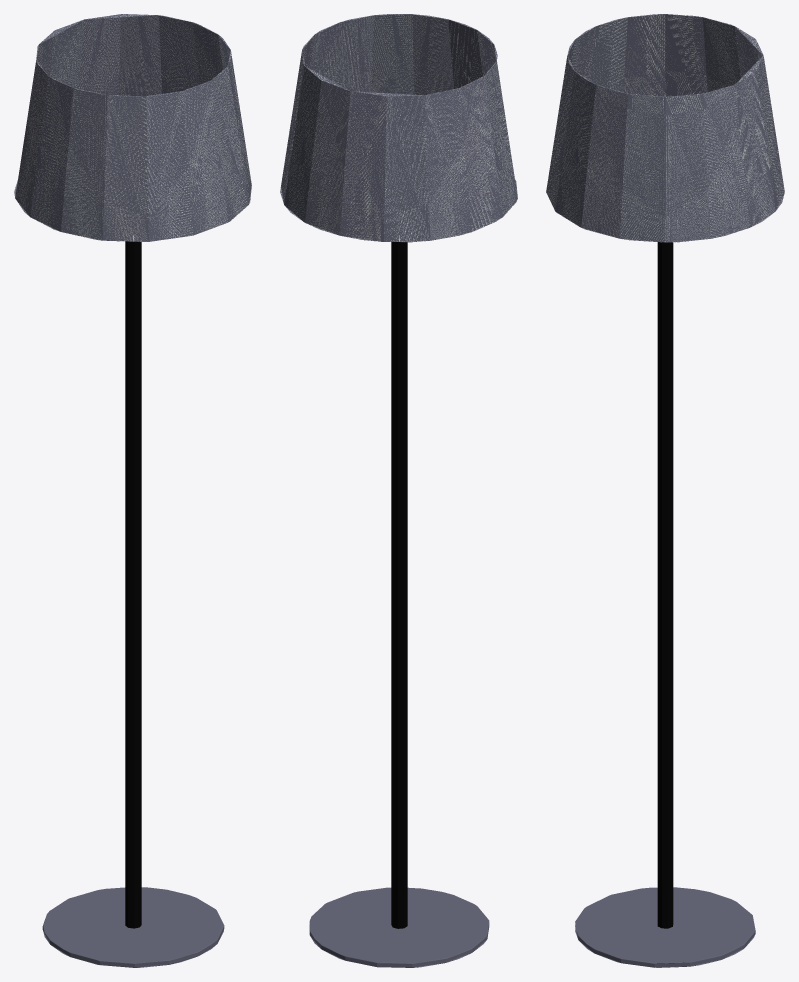
The model's file is lamp.dae.
The picture shows the model from 3 angles, left to right: view 1: azimuth 30°, elevation 25°; view 2: azimuth 150°, elevation 25°; view 3: azimuth 270°, elevation 25°; orthographic projection.
Parts seen in each view (by area): view 1: M12, M11 (×2); view 2: M12, M11 (×2); view 3: M12, M11 (×2).
Boxes of the visible parts, x1,y1,x2,y2 form: M12: (14, 14, 251, 241); M11 (×2): (42, 241, 224, 967); M12: (280, 14, 517, 242); M11 (×2): (309, 242, 489, 967); M12: (546, 14, 784, 242); M11 (×2): (575, 242, 755, 967).
Bounding box in the file's own units: 18.14 × 18.13 × 73.29.
Materials: 4 (2 with a texture image).
